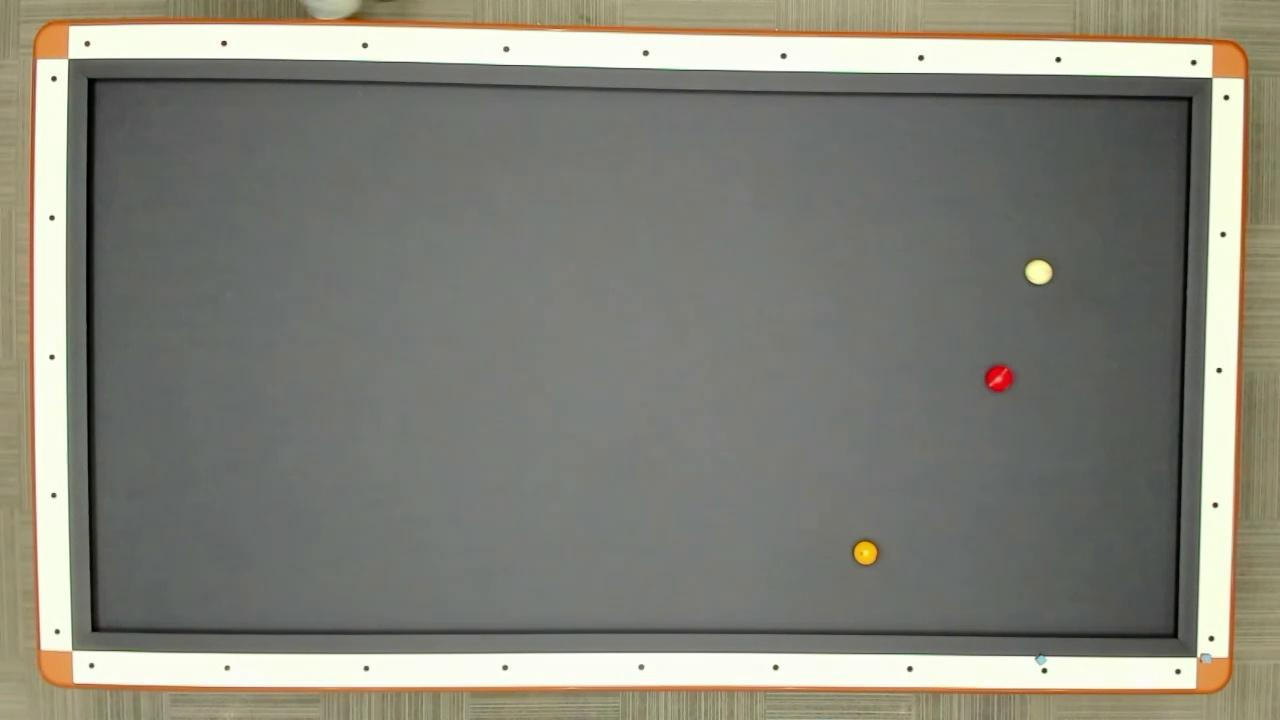Red: (983, 362, 1015, 394)
White: (1022, 258, 1054, 288)
Yellow: (851, 539, 879, 567)
